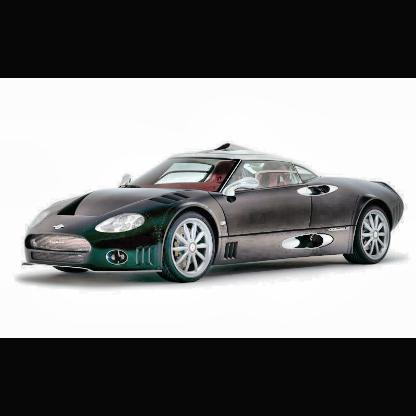Spyker C8 Convertible 2009: (22, 141, 405, 285)
